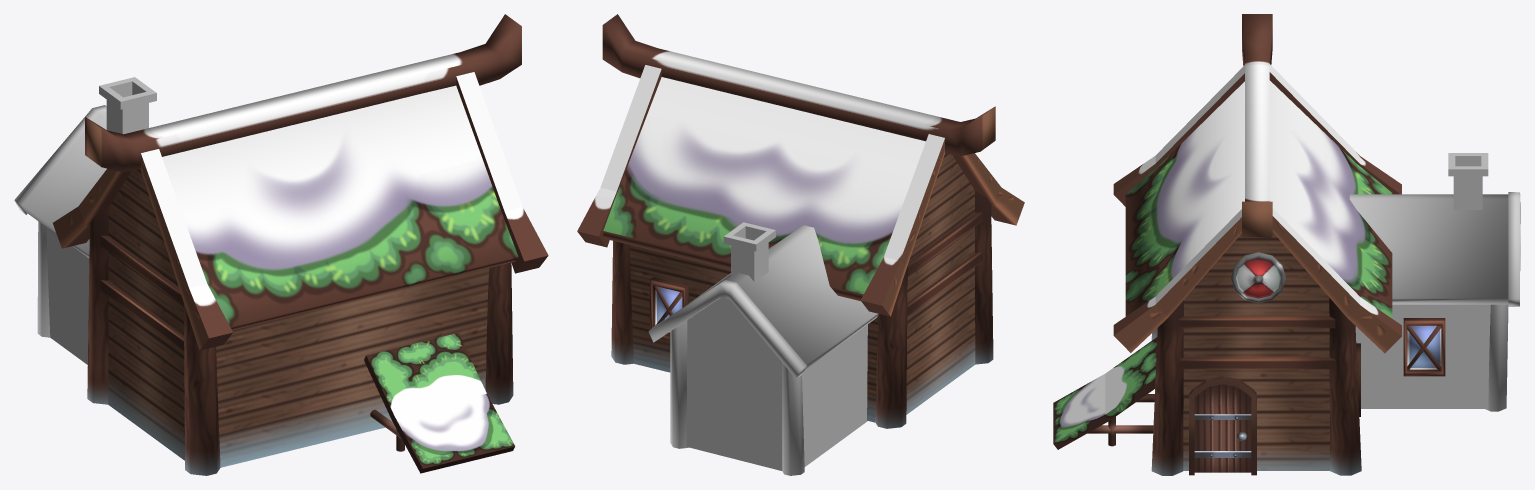
The model's file is House.fbx.
The picture shows the model from 3 angles, left to right: view 1: azimuth 30°, elevation 25°; view 2: azimuth 150°, elevation 25°; view 3: azimuth 270°, elevation 25°; orthographic projection. The views are drawn at different scales.
Visible parts, largest first — view 1: Plane.007; view 2: Plane.007; view 3: Plane.007, Plane.006.
Part boxes in pixels (x1,y1,x2,y2): Plane.007: (14,14,548,475); Plane.007: (577,14,1024,475); Plane.007: (1053,14,1520,475); Plane.006: (1194,384,1251,472).
Bounding box in the file's own units: 1193 × 884 × 1254.
